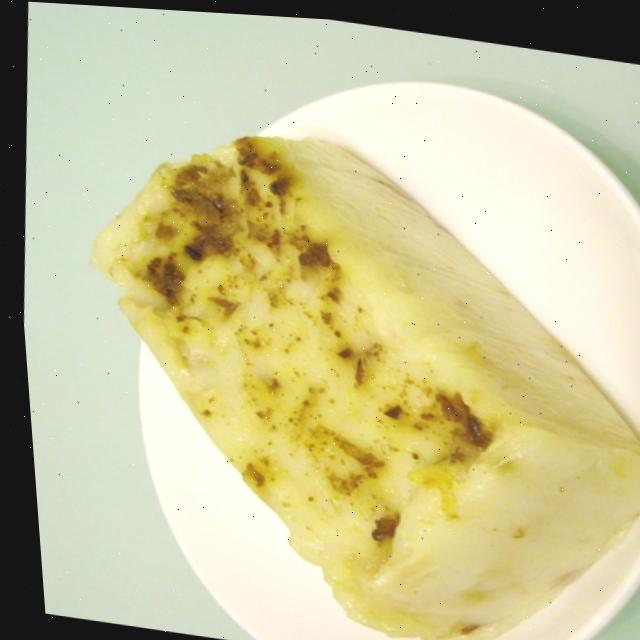蛋糕甜品: (33, 29, 640, 640)
